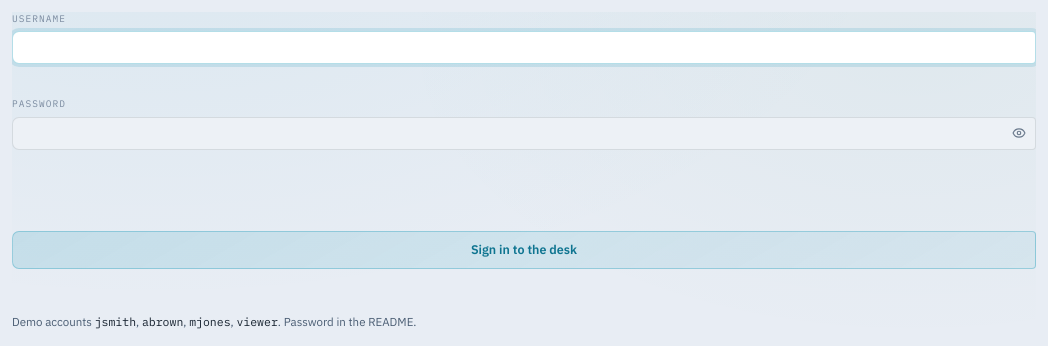
Test: LoginForm › remembers an account lock against the username and counts it down
Type "jsmith" into the field labelled "Username". click: (524, 48)
box: [12, 31, 1036, 64]
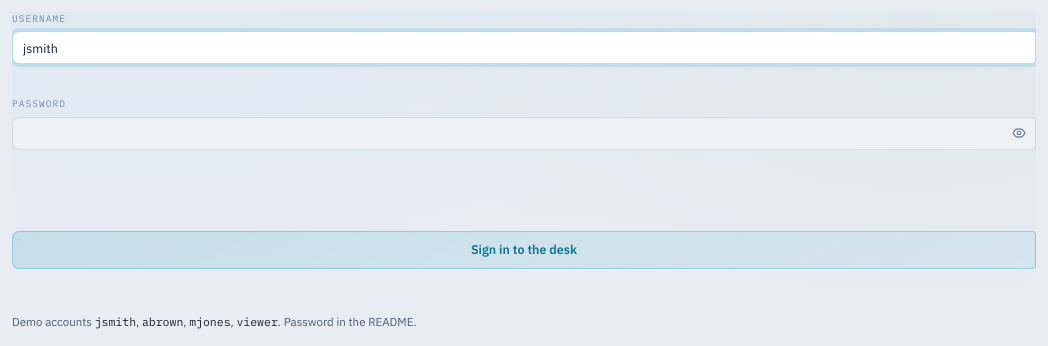
Type "not-the-password" into the password field labelled "Password". click: (524, 133)
box: [12, 116, 1036, 150]
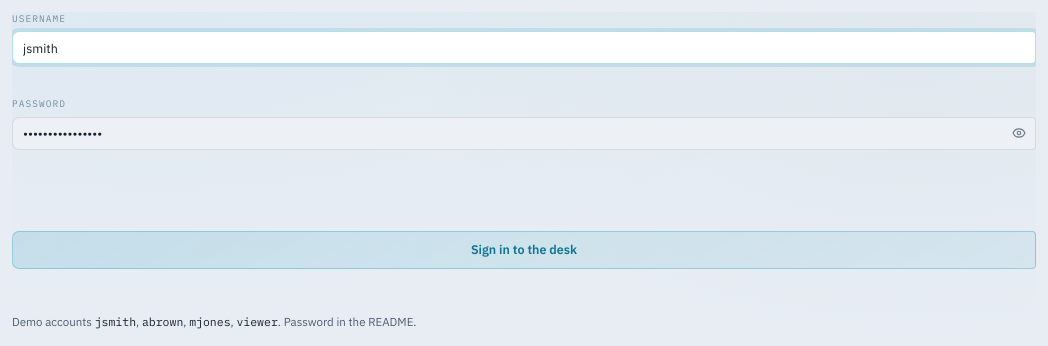
Click the button "Sign in to the desk". click: (524, 250)
box: [12, 230, 1036, 268]
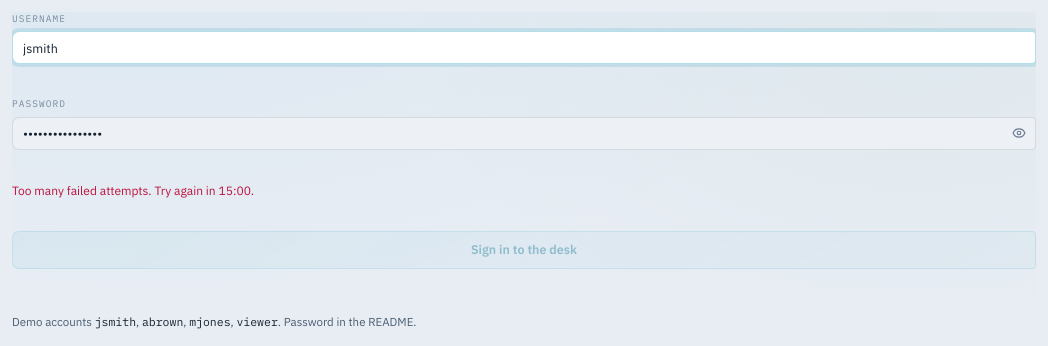
Check: the message "Too many failed attempts. Try again in 15:00." is shown, box [12, 182, 254, 198]
Check: the button "Sign in to the desk" is disabled, box [12, 230, 1036, 268]
